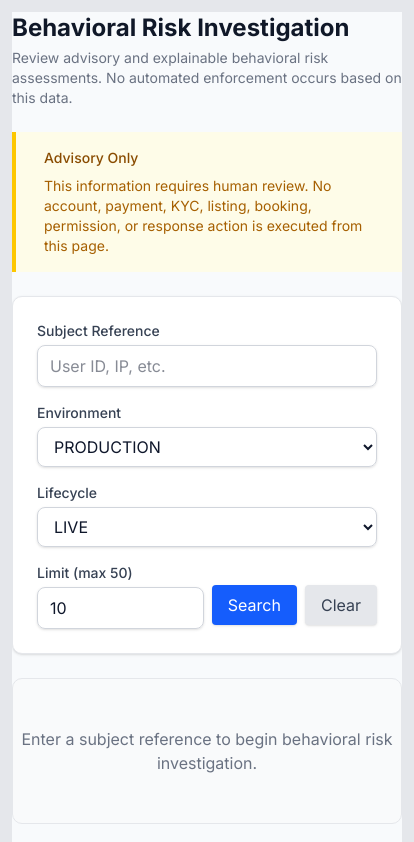
Test: Behavioral Risk Investigation Dashboard (Slice 4) › Client Interactions and Validation › 21. Clear control removes the result state
In the field labelled "Subject Reference": coordinates (207, 366) [37, 345, 377, 387], type "u1"
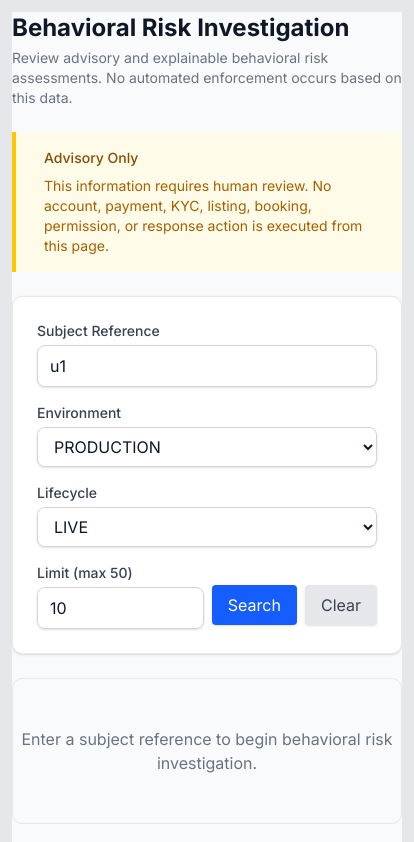
Submit the form "Search", box [12, 296, 402, 654]
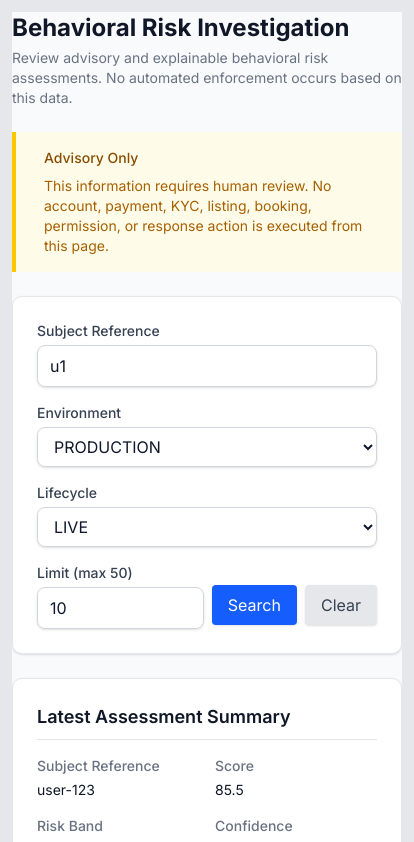
Result: the heading "Latest Assessment Summary" is shown at [37, 703, 377, 740]
Click the button "Clear": coordinates (341, 605) [305, 585, 377, 625]
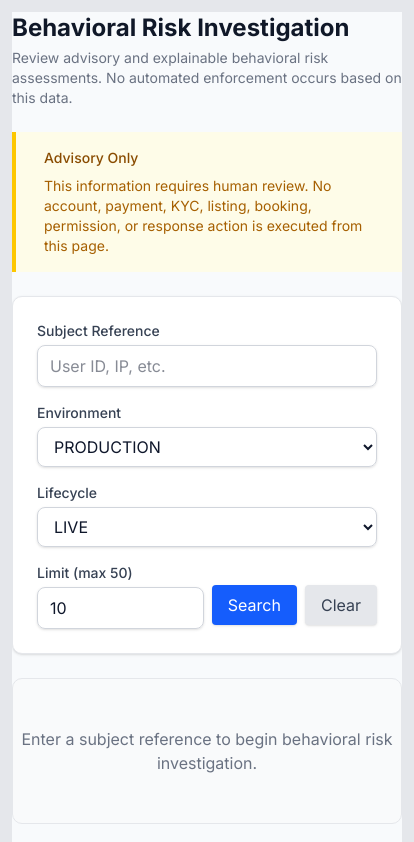
Result: the heading "Latest Assessment Summary" is gone
